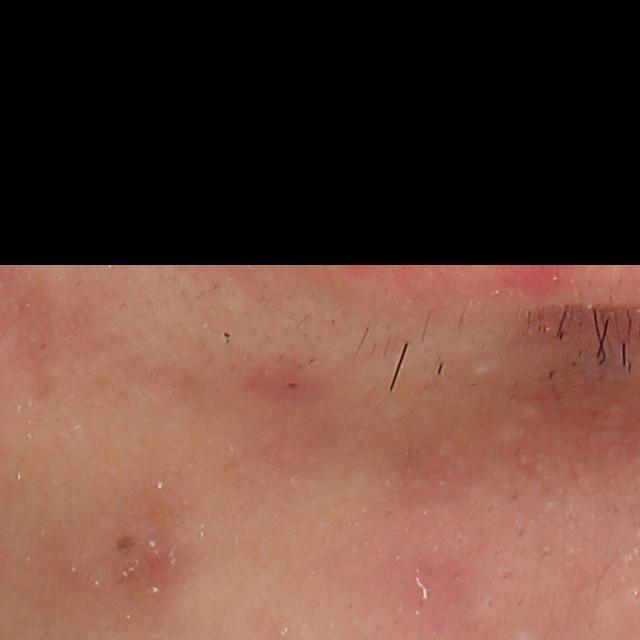hypertrophic_scar: (468, 596, 501, 638), (473, 359, 500, 374)
papule: (271, 366, 321, 396)
